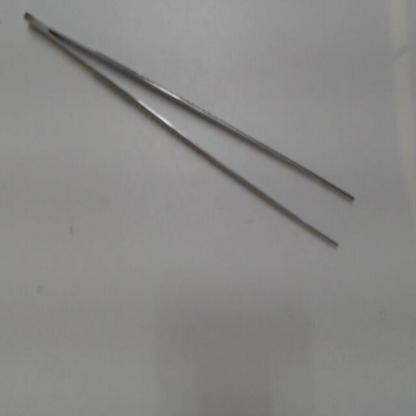DeBakey Dissector: (19, 2, 367, 262)
